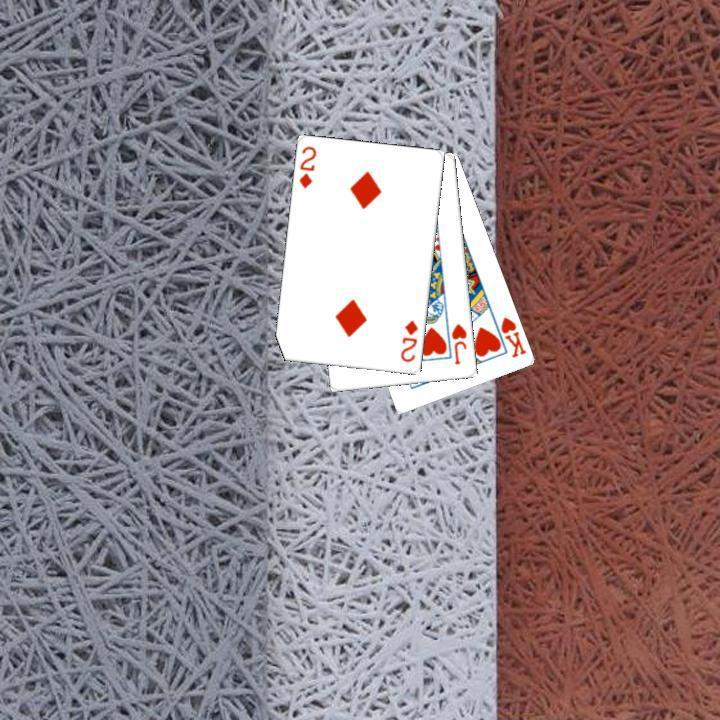2: (397, 316, 420, 364), (295, 142, 318, 190)
J: (448, 320, 469, 366)
K: (497, 313, 529, 360)
